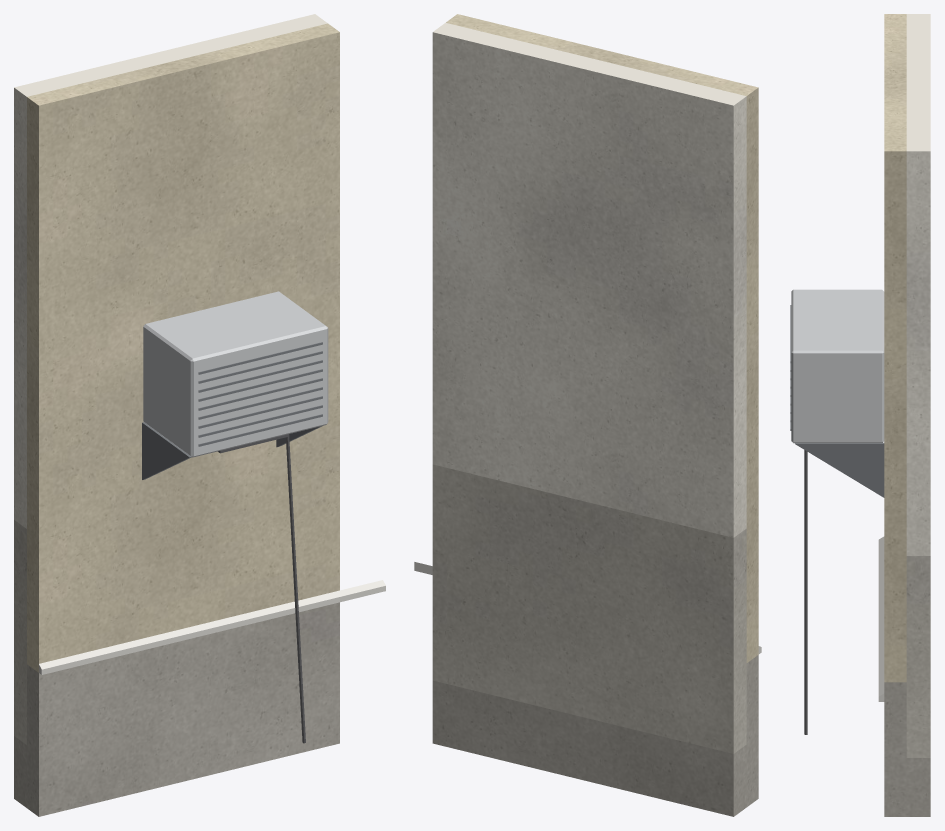
3 renders of one model, left to right at view 1: azimuth 30°, elevation 25°; view 2: azimuth 150°, elevation 25°; view 3: azimuth 270°, elevation 25°, orthographic. The views are drawn at different scales.
Visible parts, largest first — view 1: o_ac_r_eb_render, o_ac_r_eb_concrete, o_ac_r_eb_metal, o_ac_r_eb_plaster, o_ac_r_eb_steel_d, o_ac_r_eb_coping, o_ac_r_eb_tile_a, o_ac_r_eb_dark; view 2: o_ac_r_eb_plaster, o_ac_r_eb_tile_a, o_ac_r_eb_concrete, o_ac_r_eb_render; view 3: o_ac_r_eb_render, o_ac_r_eb_metal, o_ac_r_eb_plaster, o_ac_r_eb_tile_a, o_ac_r_eb_concrete, o_ac_r_eb_steel_d, o_ac_r_eb_coping, o_ac_r_eb_dark.
Boxes of the visible parts, x1,y1,x2,y2 form: o_ac_r_eb_render: (27,23,339,672); o_ac_r_eb_concrete: (14,602,339,816); o_ac_r_eb_metal: (143,291,328,457); o_ac_r_eb_plaster: (14,14,327,528); o_ac_r_eb_steel_d: (142,342,322,479); o_ac_r_eb_coping: (39,580,385,674); o_ac_r_eb_tile_a: (14,520,26,744); o_ac_r_eb_dark: (218,434,305,743); o_ac_r_eb_plaster: (432,22,746,537); o_ac_r_eb_tile_a: (432,464,746,753); o_ac_r_eb_concrete: (432,655,758,816); o_ac_r_eb_render: (446,14,758,662); o_ac_r_eb_render: (884,14,906,682); o_ac_r_eb_metal: (791,289,884,443); o_ac_r_eb_plaster: (906,14,930,555); o_ac_r_eb_tile_a: (906,556,930,757); o_ac_r_eb_concrete: (884,682,930,816); o_ac_r_eb_steel_d: (790,305,884,497); o_ac_r_eb_coping: (878,536,884,701); o_ac_r_eb_dark: (804,450,807,734).
Bounding box in the file's own units: 2 × 3.95 × 0.755.
8 materials, 4 textured.
